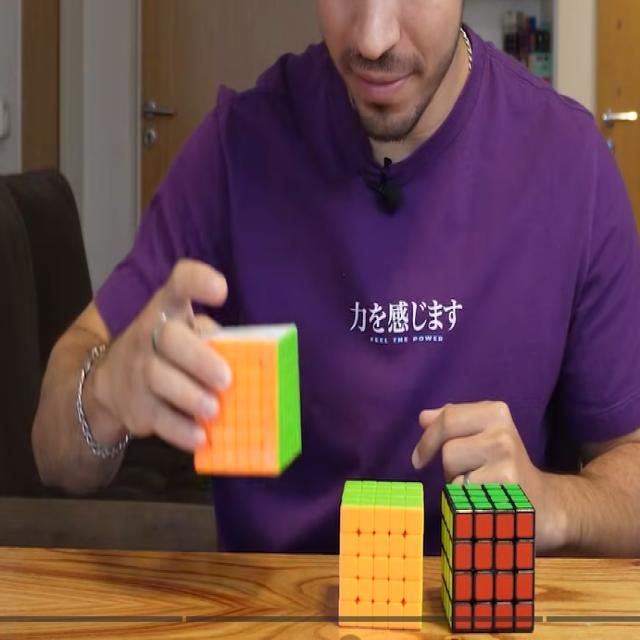Cubo-Resuelto: (195, 324, 300, 475), (441, 483, 535, 629), (339, 479, 423, 625)
